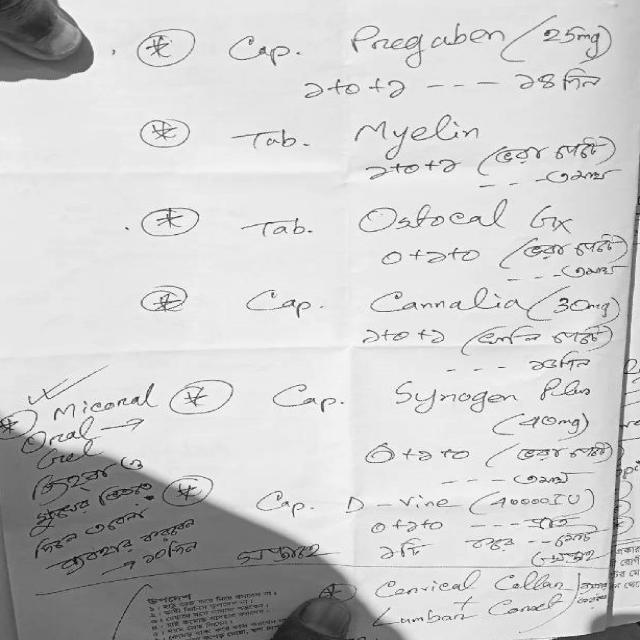medicine: (346, 196, 578, 242), (338, 19, 508, 72), (385, 374, 597, 414), (341, 111, 486, 162), (360, 282, 536, 322), (336, 491, 464, 518)
